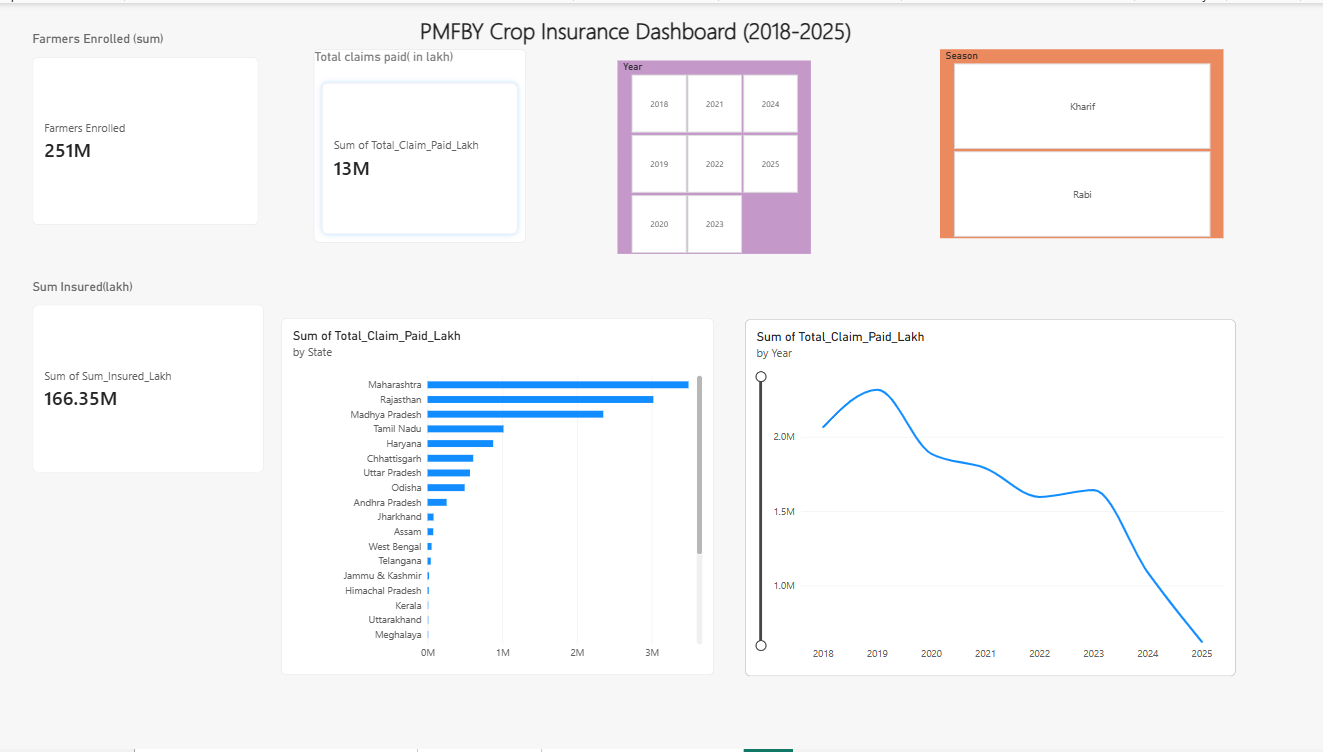

What the dashboard file says about the page in this screenshot:
{"tool":"powerbi","page":{"name":"PMFBY Crop Insurance Dashboard","canvas":[1920,1080],"ordinal":0},"visuals":[{"type":"cardVisual","title":"Sum Insured(lakh)","fields":{"Data":["Sum(Sheet1.Sum_Insured_Lakh)"]},"box":[47.5,400,335,280],"z":0},{"type":"cardVisual","title":"Total claims paid( in lakh)","fields":{"Data":["Sum(Sheet1.Total_Claim_Paid_Lakh)"]},"box":[455,67.5,307.5,280],"z":1000},{"type":"clusteredBarChart","fields":{"Category":["Sheet1.State"],"Y":["Sum(Sheet1.Total_Claim_Paid_Lakh)"]},"box":[406.7,456.7,626.7,516.7],"z":2000},{"type":"cardVisual","title":"Farmers Enrolled (sum)","fields":{"Data":["Sum(Sheet1.Farmers)"]},"box":[47.5,42.5,327.5,280],"z":3000},{"type":"lineChart","fields":{"Category":["Sheet1.Year"],"Y":["Sum(Sheet1.Total_Claim_Paid_Lakh)"]},"box":[1078,458,710,516.7],"z":4000},{"type":"slicer","fields":{"Values":["Sheet1.Year"]},"box":[893.3,83.3,280,280],"z":5000},{"type":"slicer","fields":{"Values":["Sheet1.Season"]},"box":[1360,67.5,410,273.3],"z":6000},{"type":"textbox","box":[607.5,17.5,1046.7,130],"z":7000}]}

Visuals, with their boxes in screenshot pixels (x1, y1, x2, y2), scaled from the page's 1920x1080 canvas onto the 1323x752 screenshot:
"Sum Insured(lakh)" cardVisual: rect(33, 279, 264, 473)
"Total claims paid( in lakh)" cardVisual: rect(314, 47, 525, 242)
clusteredBarChart - Sheet1.State x Sum(Sheet1.Total_Claim_Paid_Lakh): rect(280, 318, 712, 678)
"Farmers Enrolled (sum)" cardVisual: rect(33, 30, 258, 225)
lineChart - Sheet1.Year x Sum(Sheet1.Total_Claim_Paid_Lakh): rect(743, 319, 1232, 679)
slicer - Sheet1.Year: rect(616, 58, 808, 253)
slicer - Sheet1.Season: rect(937, 47, 1220, 237)
textbox: rect(419, 12, 1140, 103)
